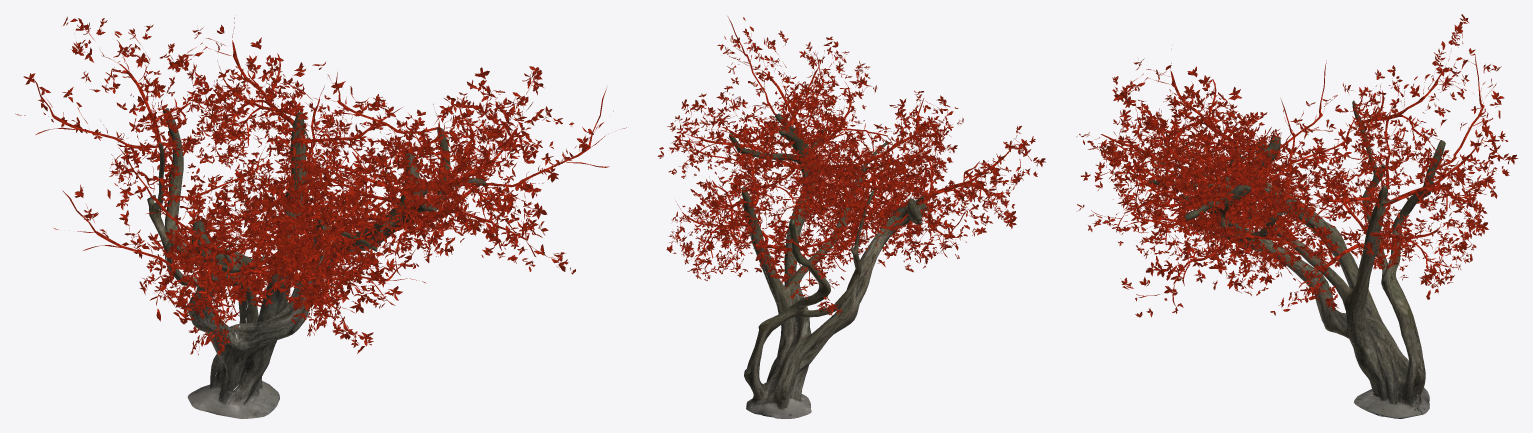
Rendered from entrance_trees_lite.glb.
3 views of the same model, side by side, from view 1: azimuth 30°, elevation 25°; view 2: azimuth 150°, elevation 25°; view 3: azimuth 270°, elevation 25° (orthographic). The views are drawn at different scales.
Parts seen in each view (by area): view 1: NAT_maple, NAT_maple_crown; view 2: NAT_maple, NAT_maple_crown; view 3: NAT_maple, NAT_maple_crown.
Part boxes in pixels (box(x1,y1,x2,y2)): NAT_maple: box(15, 16, 626, 418); NAT_maple_crown: box(43, 68, 571, 346); NAT_maple: box(657, 16, 1045, 418); NAT_maple_crown: box(668, 64, 1013, 315); NAT_maple: box(1076, 14, 1517, 418); NAT_maple_crown: box(1107, 66, 1497, 313).
Bounding box in the file's own units: 7.62 × 6.23 × 7.52.
Materials: 4 (4 with a texture image).
